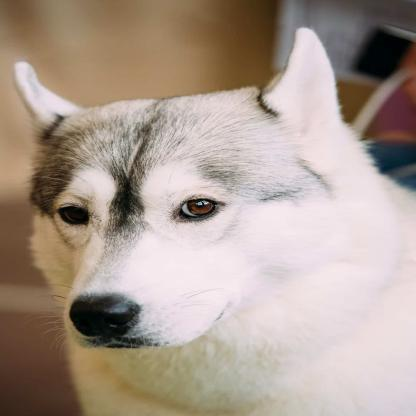husky: (13, 25, 416, 416)
